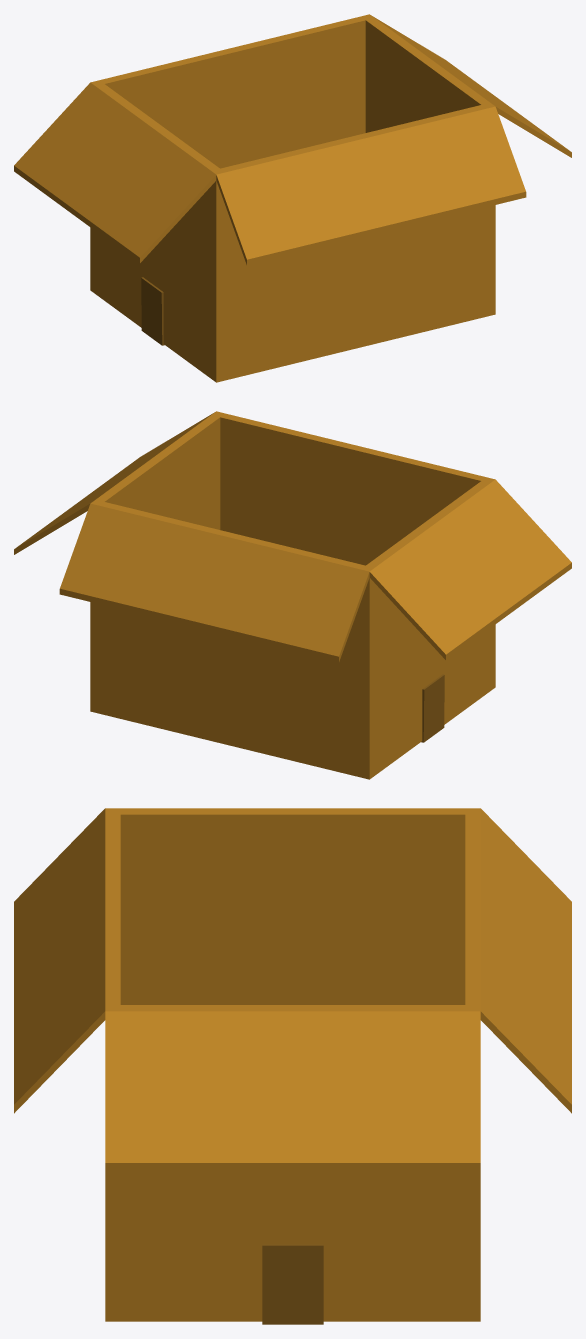
Rendered from open_cardboard_box.fbx.
The picture shows the model from 3 angles, top to bottom: view 1: azimuth 30°, elevation 25°; view 2: azimuth 150°, elevation 25°; view 3: azimuth 270°, elevation 25°; orthographic projection. The views are drawn at different scales.
Parts seen in each view (by area): view 1: open cardboard box; view 2: open cardboard box; view 3: open cardboard box.
Part boxes in pixels (x1,y1,x2,y2): open cardboard box: (14, 14, 571, 382); open cardboard box: (14, 411, 571, 779); open cardboard box: (14, 808, 571, 1324).
Size of the model in its own units: 360 by 167 by 270.
